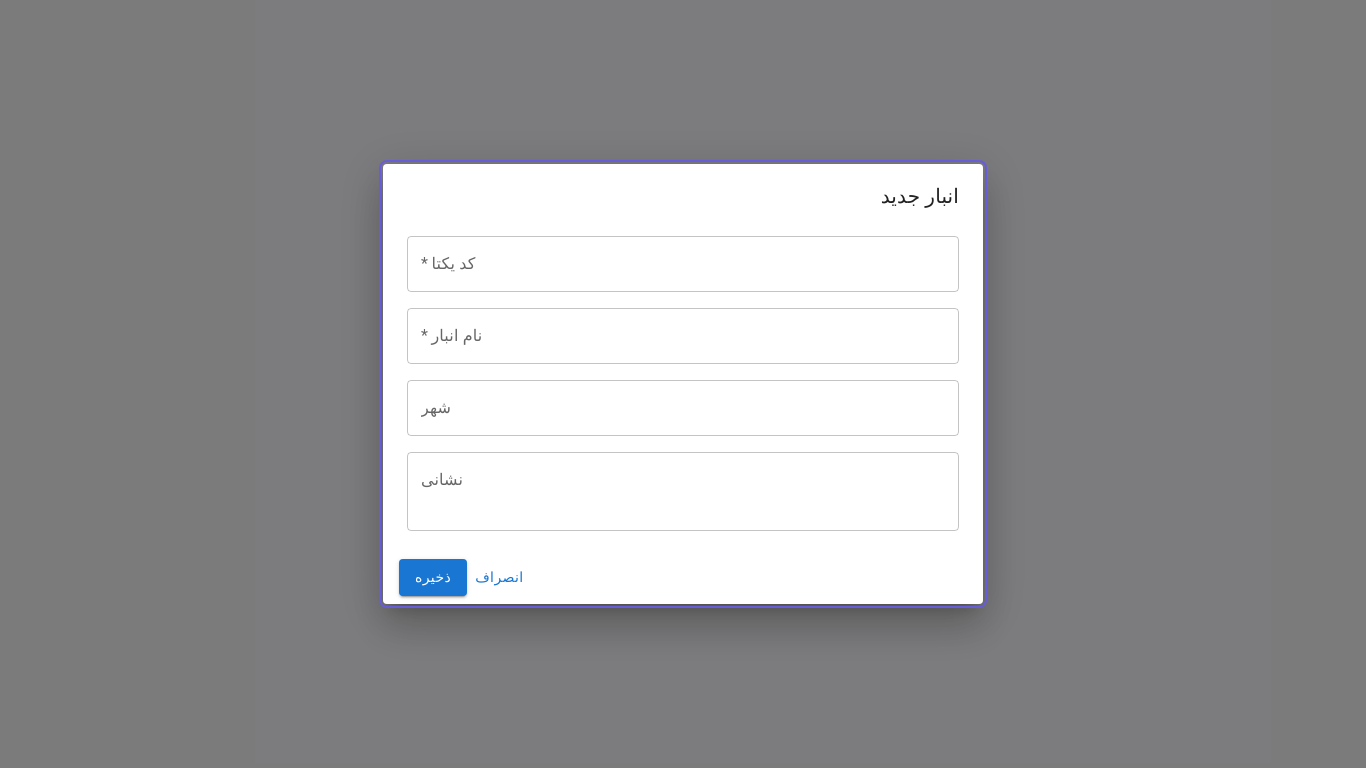
Test: warehouse and location mutation dialogs › keeps uncertain failures visible without automatic resubmission
Type "WH-2" into the field labelled "کد یکتا" at (683, 264), box top-left (407, 236), bottom-right (959, 292)
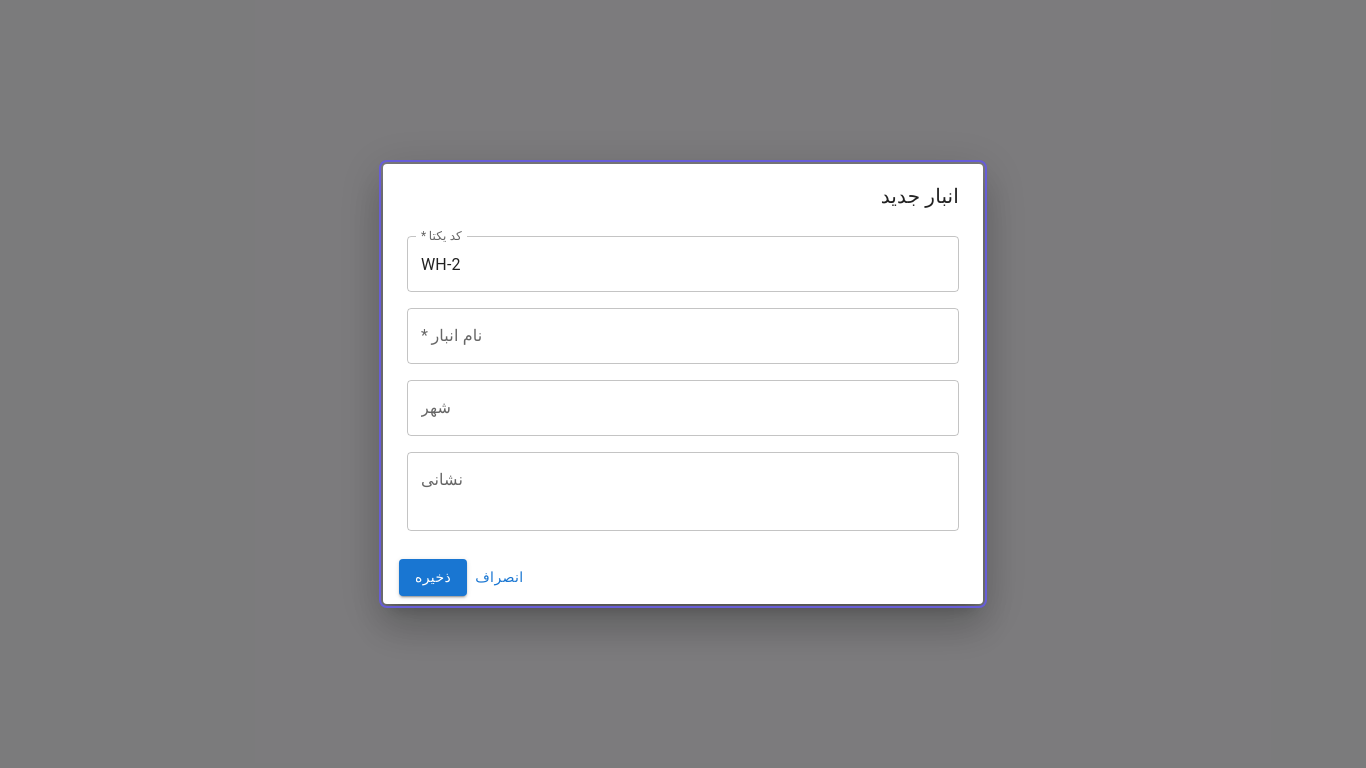
Type "انبار غرب" into the field labelled "نام انبار" at (683, 336), box top-left (407, 308), bottom-right (959, 364)
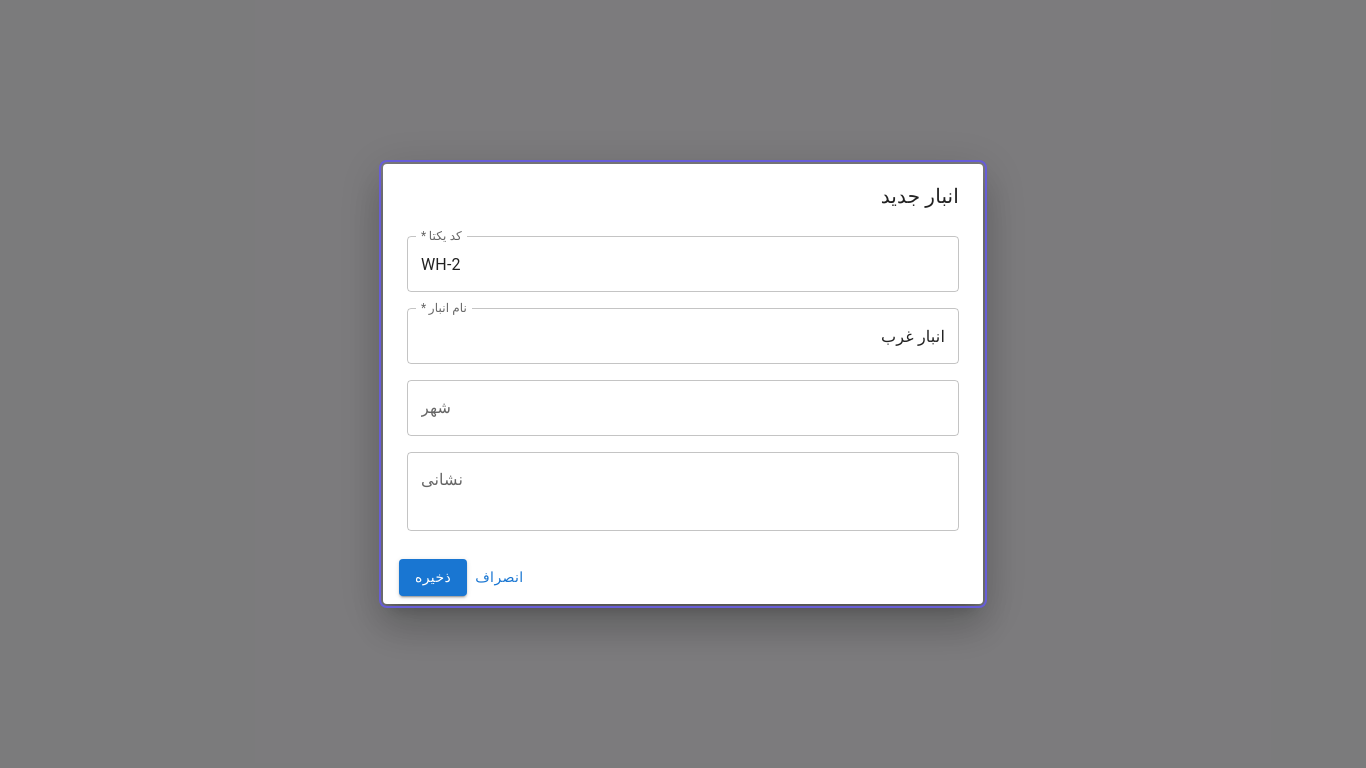
Click the button "ذخیره" at (433, 578), box top-left (399, 559), bottom-right (467, 596)
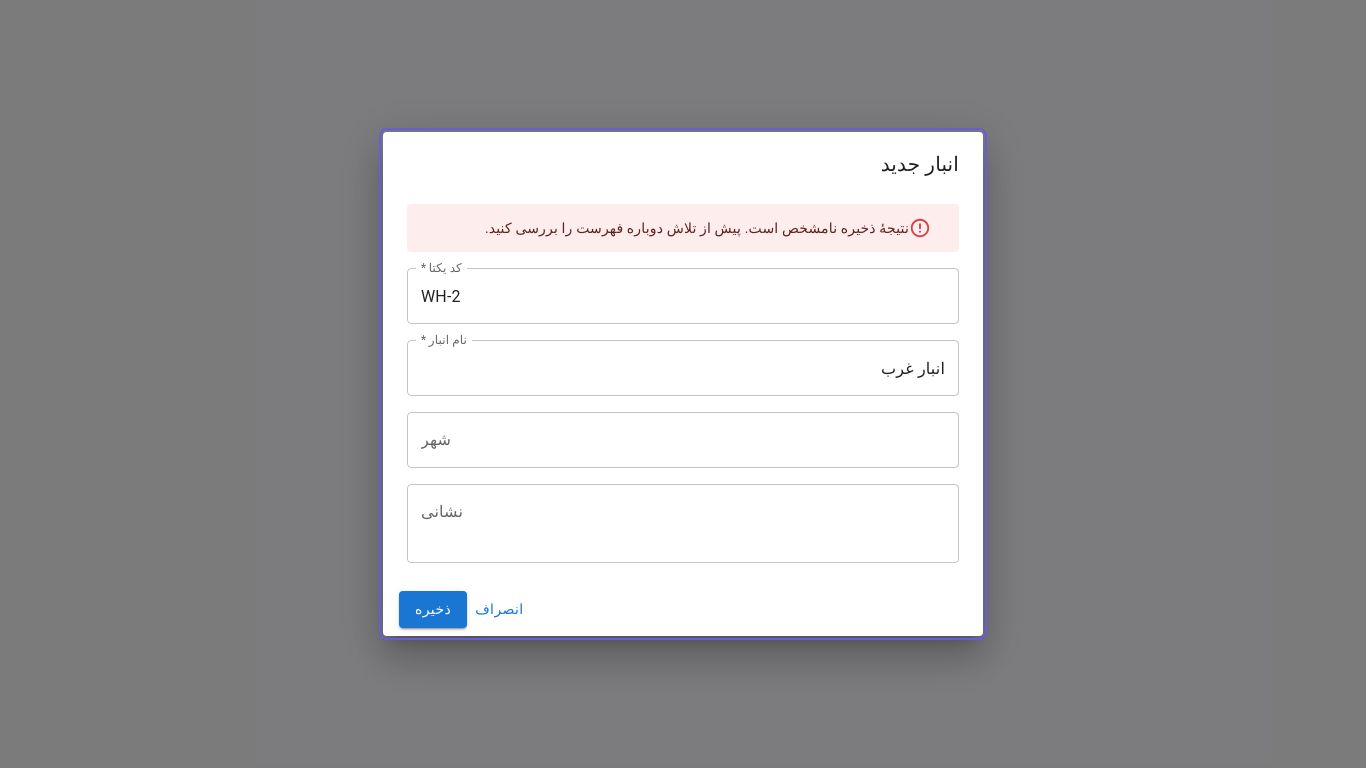
Now the text "نتیجهٔ ذخیره نامشخص است" is shown, box top-left (485, 220), bottom-right (909, 236)
